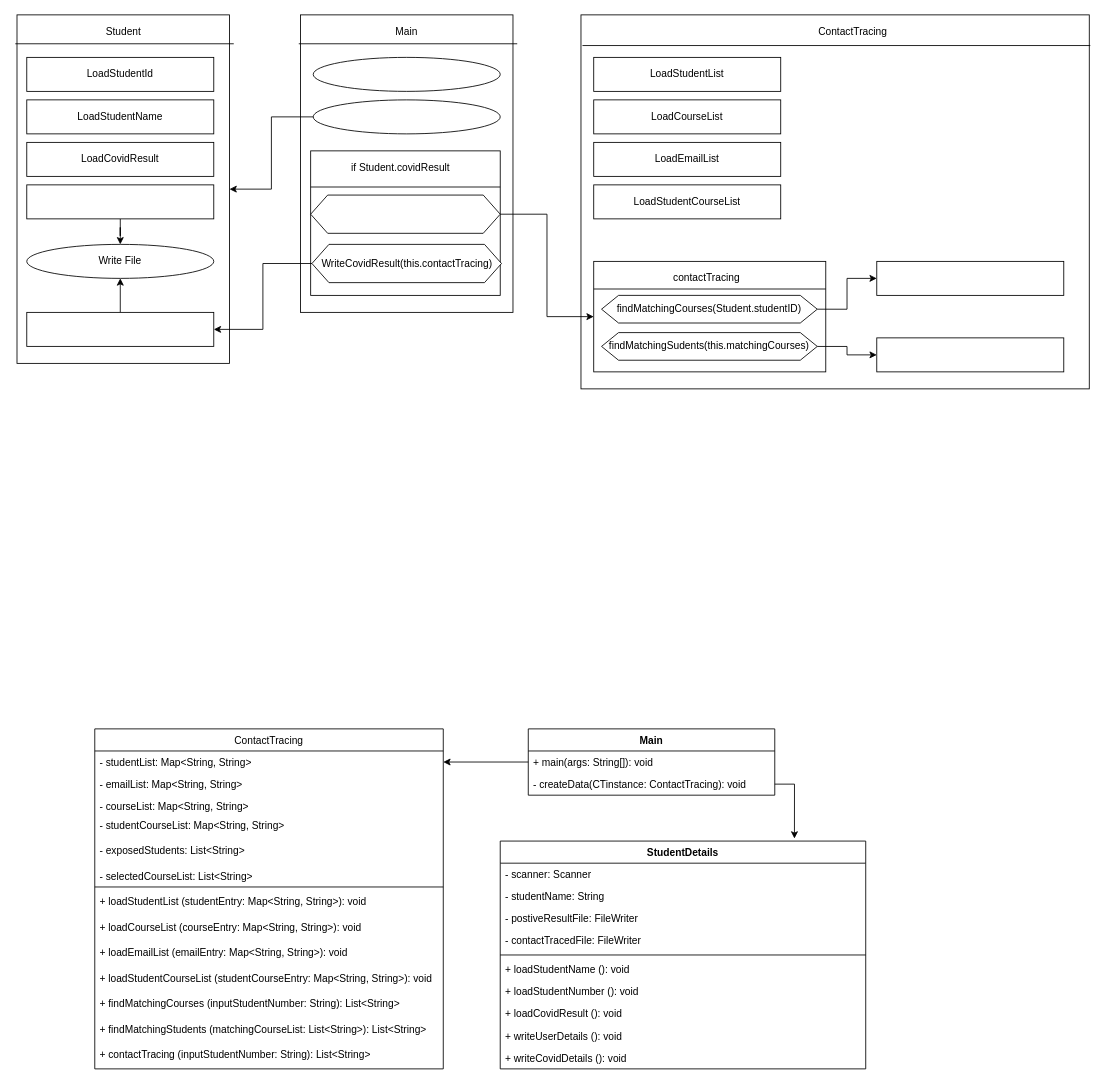
Image size: 1106x1086. Some labels were removed from this diagram. The centre of each missing label's shape, as x and y in pixels:
contactTracing(Student.studentID): the point at 405,213
Create Contact Tracing object: the point at 406,74
Create Student object: the point at 406,116
FindMatchingCourses: the point at 970,278
FindMatchingStudents: the point at 970,354
WriteCovidResult: the point at 120,329
WriteStudentDetails: the point at 120,201
